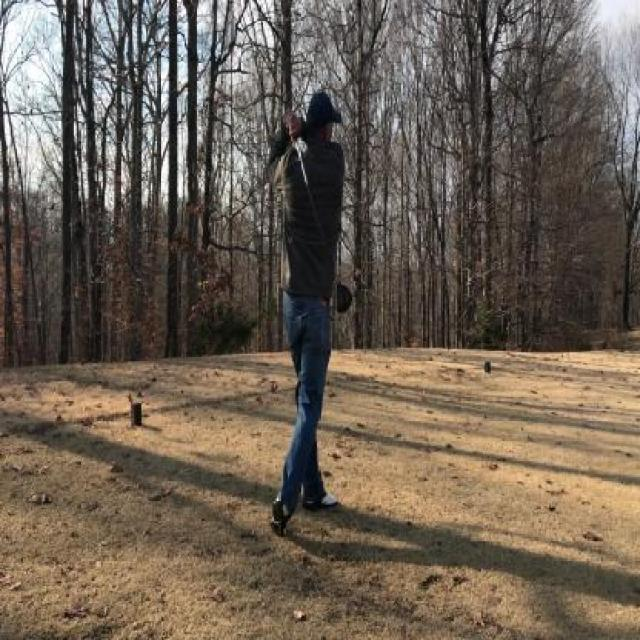club head: (332, 275, 352, 313)
